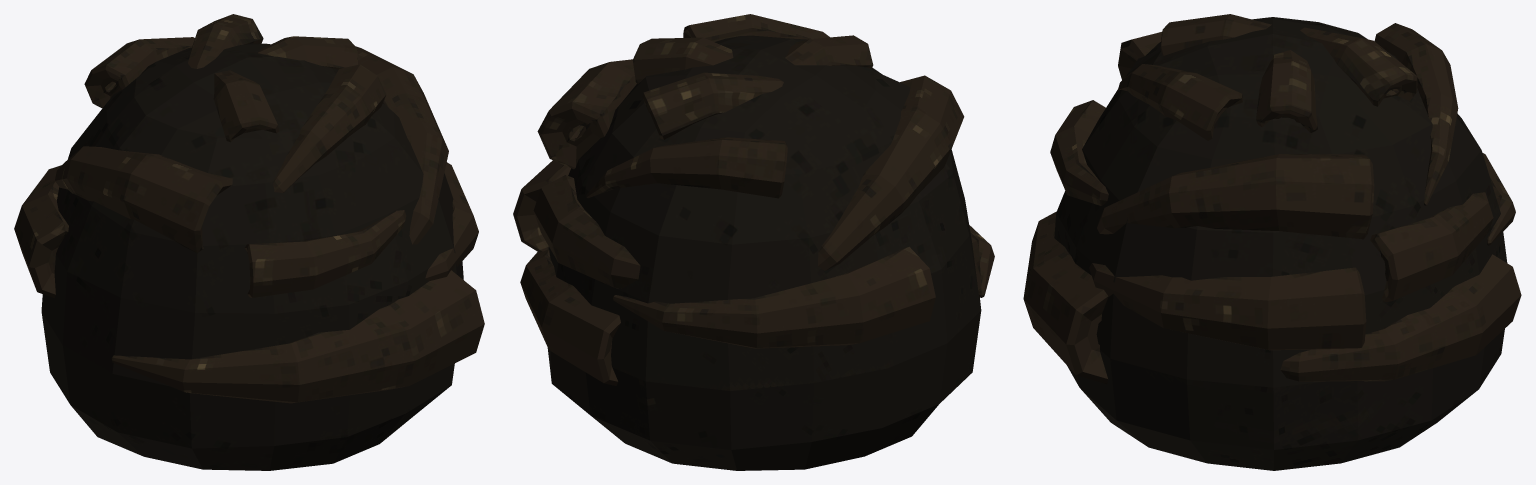
File: Boss_LeachKingP1.fbx
3 views of the same model, side by side, from view 1: azimuth 30°, elevation 25°; view 2: azimuth 150°, elevation 25°; view 3: azimuth 270°, elevation 25° (orthographic). The views are drawn at different scales.
Parts seen in each view (by area): view 1: Boss_LeachKing_P1; view 2: Boss_LeachKing_P1; view 3: Boss_LeachKing_P1.
Part boxes in pixels (x1,y1,x2,y2): Boss_LeachKing_P1: [14, 14, 484, 470]; Boss_LeachKing_P1: [513, 14, 994, 470]; Boss_LeachKing_P1: [1023, 14, 1521, 470].
Bounding box in the file's own units: 391 × 318 × 397.
1 material, 1 textured.
